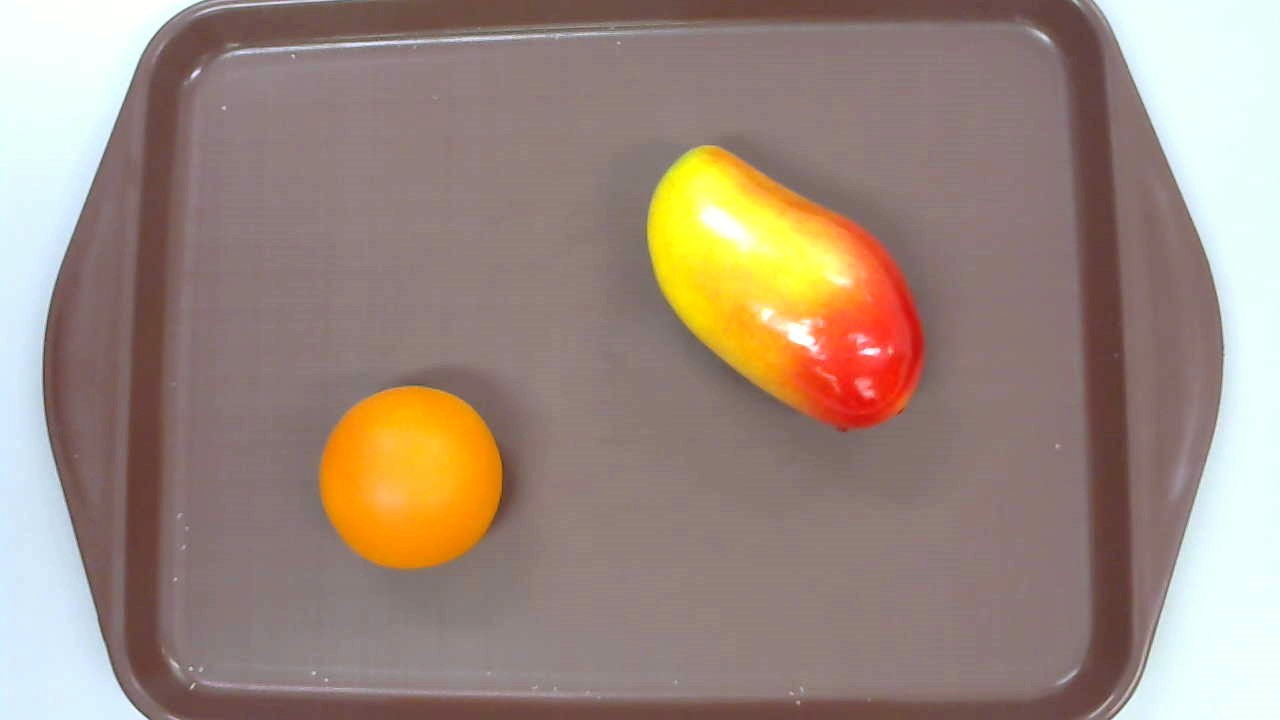bun: (317, 386, 502, 570)
red mango: (647, 143, 927, 434)
